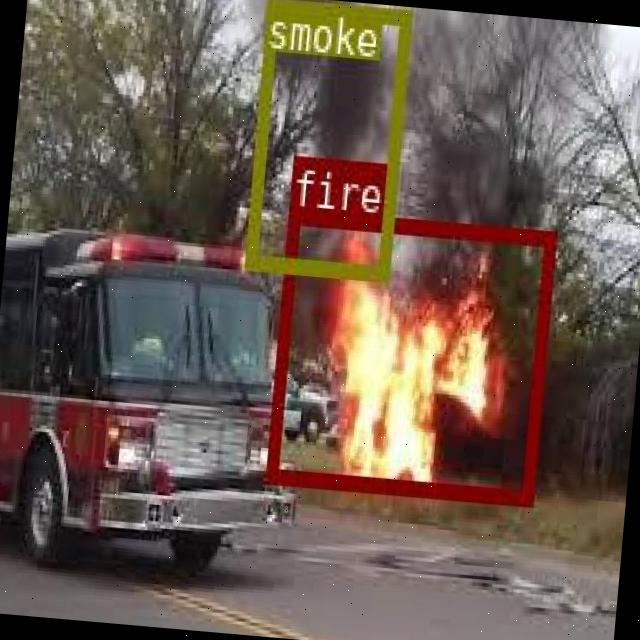fire: (264, 206, 553, 502)
smoke: (243, 0, 408, 277)
